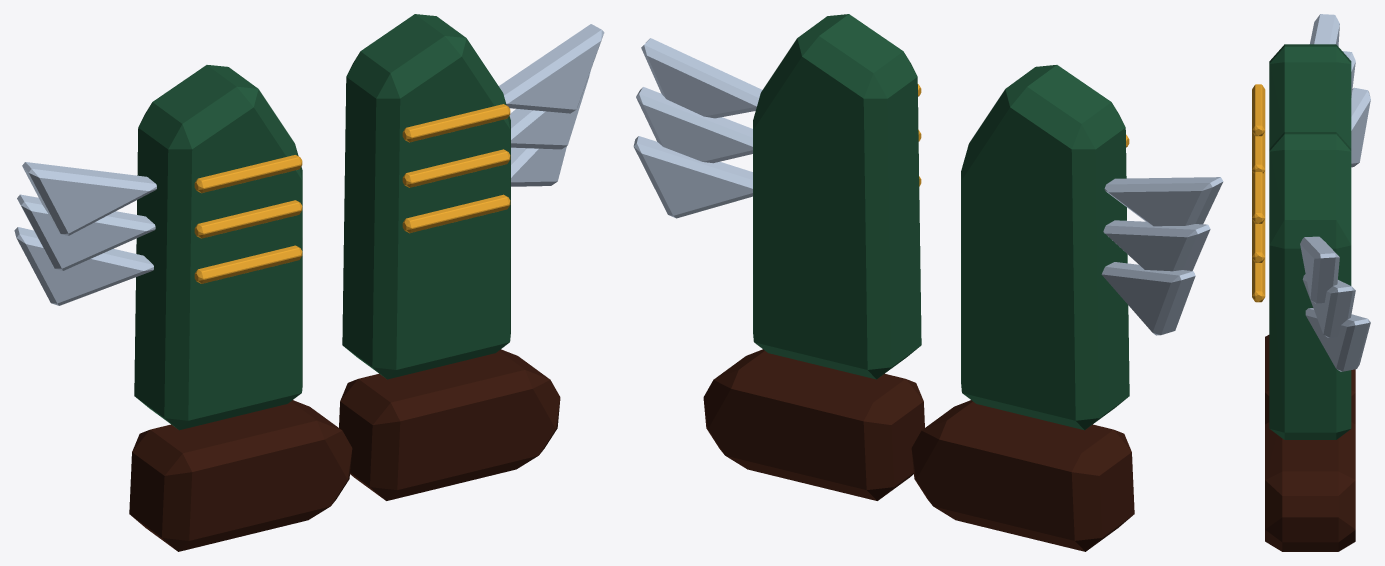
The model's file is hermes_boots.obj.
The picture shows the model from 3 angles, left to right: view 1: azimuth 30°, elevation 25°; view 2: azimuth 150°, elevation 25°; view 3: azimuth 270°, elevation 25°; orthographic projection. The views are drawn at different scales.
Visible parts, largest first — view 1: Boot1_Upper.001_MAT_ClothGreen, Boot-1_Upper.001_MAT_ClothGreen, Boot-1_Sole.001_MAT_Leather, Boot1_Sole.001_MAT_Leather, Boot-1_Wing0.001_MAT_Pearl, Boot1_Wing0.001_MAT_Pearl, Boot-1_Wing2.001_MAT_Pearl, Boot-1_Wing1.001_MAT_Pearl, Boot1_Wing1.001_MAT_Pearl, Boot1_Wing2.001_MAT_Pearl, Boot-1_Lace1.001_MAT_BrightGold, Boot-1_Lace2.001_MAT_BrightGold (+4 smaller); view 2: Boot1_Upper.001_MAT_ClothGreen, Boot-1_Upper.001_MAT_ClothGreen, Boot-1_Sole.001_MAT_Leather, Boot1_Sole.001_MAT_Leather, Boot1_Wing2.001_MAT_Pearl, Boot1_Wing0.001_MAT_Pearl, Boot1_Wing1.001_MAT_Pearl, Boot-1_Wing0.001_MAT_Pearl, Boot-1_Wing2.001_MAT_Pearl, Boot-1_Wing1.001_MAT_Pearl; view 3: Boot1_Upper.001_MAT_ClothGreen, Boot1_Sole.001_MAT_Leather, Boot-1_Upper.001_MAT_ClothGreen, Boot1_Wing2.001_MAT_Pearl, Boot1_Wing0.001_MAT_Pearl, Boot1_Wing1.001_MAT_Pearl, Boot-1_Wing2.001_MAT_Pearl, Boot-1_Wing0.001_MAT_Pearl, Boot-1_Sole.001_MAT_Leather, Boot-1_Lace2.001_MAT_BrightGold, Boot1_Lace2.001_MAT_BrightGold, Boot1_Lace0.001_MAT_BrightGold (+3 smaller).
Boxes of the visible parts, bbox=[...] form: Boot1_Upper.001_MAT_ClothGreen: bbox=[342, 14, 510, 379]; Boot-1_Upper.001_MAT_ClothGreen: bbox=[134, 65, 302, 430]; Boot-1_Sole.001_MAT_Leather: bbox=[129, 400, 352, 551]; Boot1_Sole.001_MAT_Leather: bbox=[339, 349, 560, 500]; Boot-1_Wing0.001_MAT_Pearl: bbox=[22, 162, 156, 235]; Boot1_Wing0.001_MAT_Pearl: bbox=[499, 24, 604, 113]; Boot-1_Wing2.001_MAT_Pearl: bbox=[14, 227, 153, 305]; Boot-1_Wing1.001_MAT_Pearl: bbox=[17, 194, 155, 270]; Boot1_Wing1.001_MAT_Pearl: bbox=[509, 71, 590, 149]; Boot1_Wing2.001_MAT_Pearl: bbox=[511, 146, 566, 186]; Boot-1_Lace1.001_MAT_BrightGold: bbox=[194, 200, 302, 238]; Boot-1_Lace2.001_MAT_BrightGold: bbox=[194, 155, 302, 193]; Boot1_Upper.001_MAT_ClothGreen: bbox=[753, 14, 921, 379]; Boot-1_Upper.001_MAT_ClothGreen: bbox=[961, 65, 1129, 430]; Boot-1_Sole.001_MAT_Leather: bbox=[911, 400, 1134, 551]; Boot1_Sole.001_MAT_Leather: bbox=[703, 349, 924, 500]; Boot1_Wing2.001_MAT_Pearl: bbox=[633, 136, 752, 218]; Boot1_Wing0.001_MAT_Pearl: bbox=[641, 38, 762, 118]; Boot1_Wing1.001_MAT_Pearl: bbox=[636, 87, 752, 163]; Boot-1_Wing0.001_MAT_Pearl: bbox=[1104, 177, 1223, 226]; Boot-1_Wing2.001_MAT_Pearl: bbox=[1101, 262, 1195, 335]; Boot-1_Wing1.001_MAT_Pearl: bbox=[1103, 220, 1210, 271]; Boot1_Upper.001_MAT_ClothGreen: bbox=[1269, 132, 1351, 439]; Boot1_Sole.001_MAT_Leather: bbox=[1265, 422, 1355, 551]; Boot-1_Upper.001_MAT_ClothGreen: bbox=[1269, 44, 1351, 148]; Boot1_Wing2.001_MAT_Pearl: bbox=[1305, 308, 1370, 371]; Boot1_Wing0.001_MAT_Pearl: bbox=[1300, 236, 1339, 303]; Boot1_Wing1.001_MAT_Pearl: bbox=[1302, 274, 1355, 337]; Boot-1_Wing2.001_MAT_Pearl: bbox=[1351, 87, 1370, 167]; Boot-1_Wing0.001_MAT_Pearl: bbox=[1310, 14, 1339, 46]; Boot-1_Sole.001_MAT_Leather: bbox=[1265, 335, 1355, 424]; Boot-1_Lace2.001_MAT_BrightGold: bbox=[1252, 84, 1265, 136]; Boot1_Lace2.001_MAT_BrightGold: bbox=[1252, 172, 1265, 223]; Boot1_Lace0.001_MAT_BrightGold: bbox=[1252, 258, 1265, 302].
Size of the model in its own units: 2.66 by 1.98 by 0.5503.
